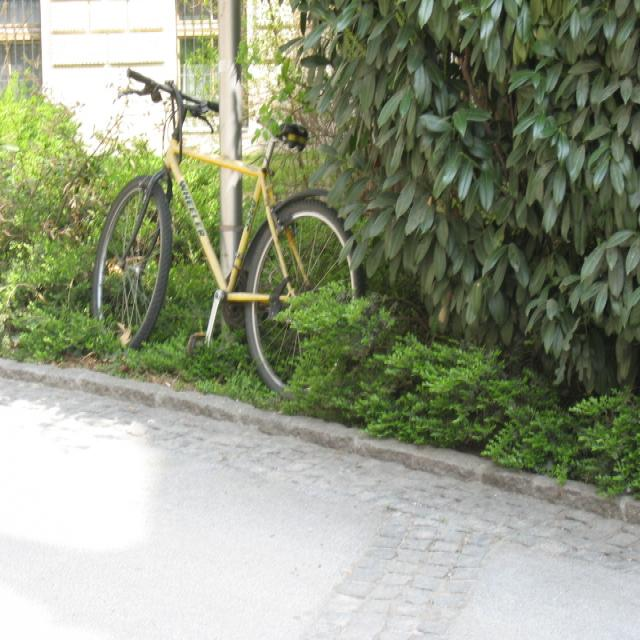bicycle: (91, 67, 363, 400)
